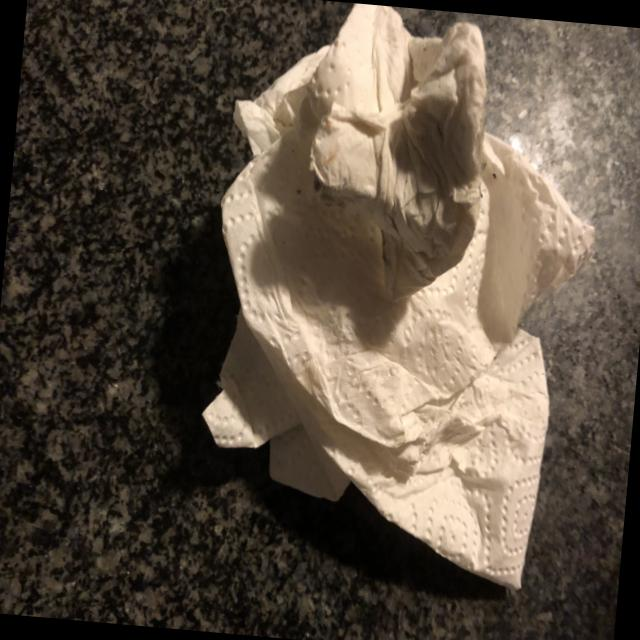organic waste: (178, 0, 609, 611)
